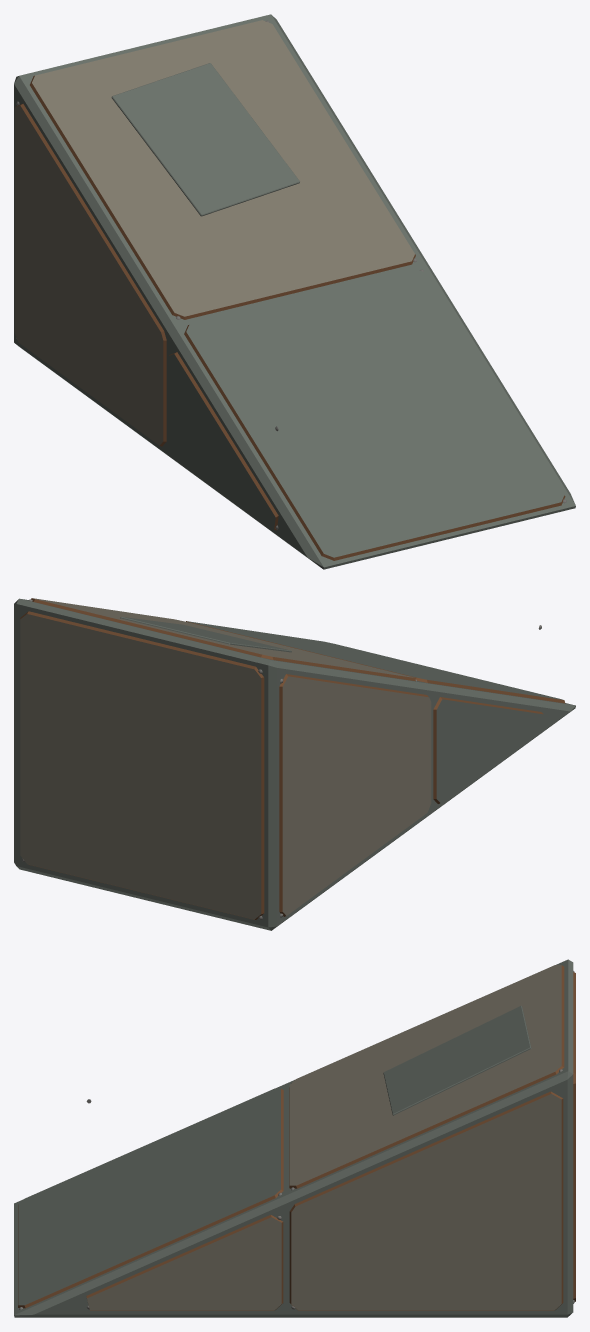
The model's file is R4B_LongWedge.fbx.
The picture shows the model from 3 angles, top to bottom: view 1: azimuth 30°, elevation 25°; view 2: azimuth 150°, elevation 25°; view 3: azimuth 270°, elevation 25°; orthographic projection. The views are drawn at different scales.
Parts seen in each view (by area): view 1: R4B_LongWedge; view 2: R4B_LongWedge; view 3: R4B_LongWedge.
Part boxes in pixels (bbox=[...]): R4B_LongWedge: bbox=[14, 14, 575, 569]; R4B_LongWedge: bbox=[14, 598, 575, 930]; R4B_LongWedge: bbox=[14, 959, 575, 1317].
Bounding box in the file's own units: 0.52 × 0.5074 × 1.04.
